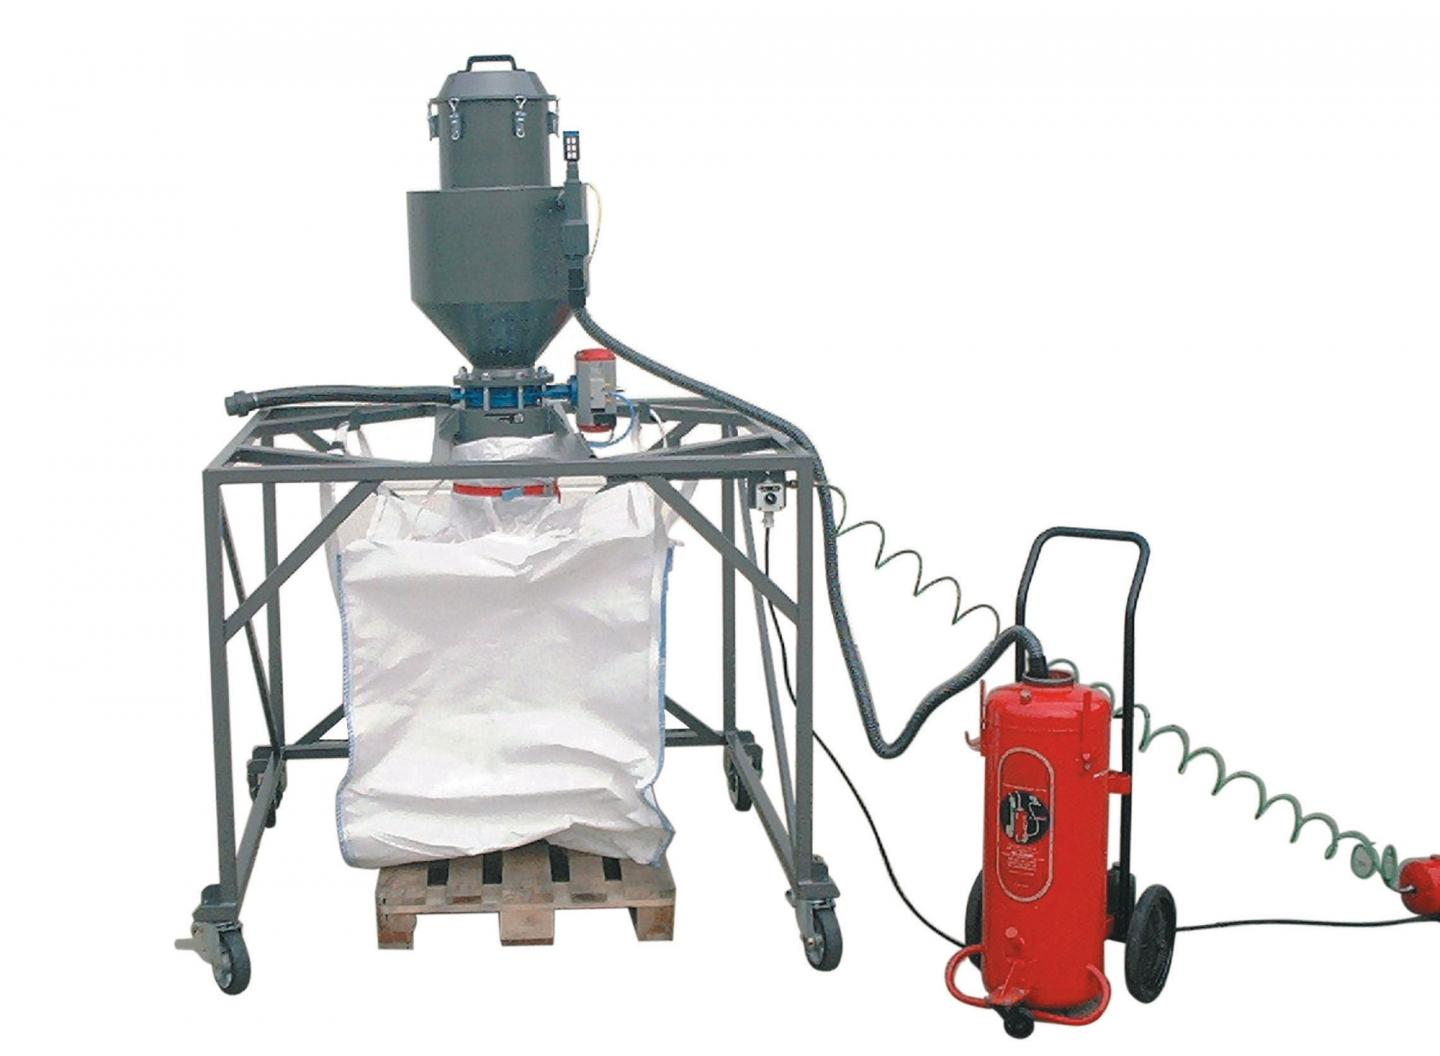Fire Extinguisher: (923, 593, 1140, 1054)
